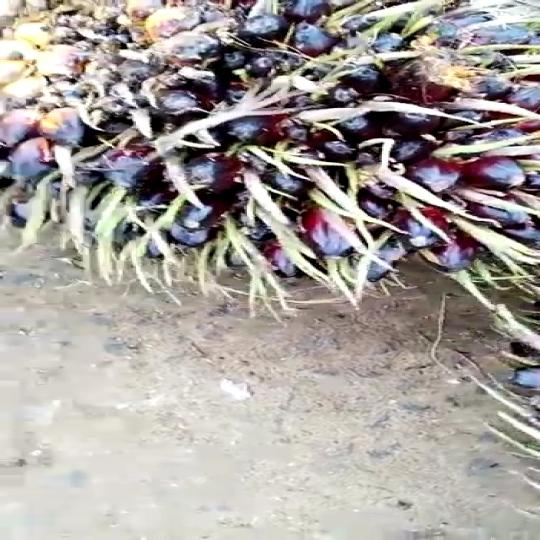mentah: (1, 2, 540, 296)
